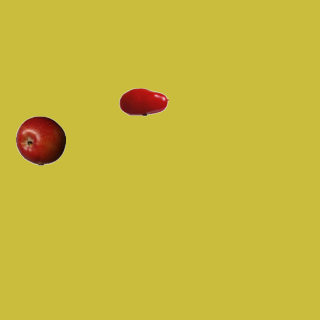Apple Braeburn: (15, 115, 65, 165)
Tomato 2: (118, 76, 168, 126)
